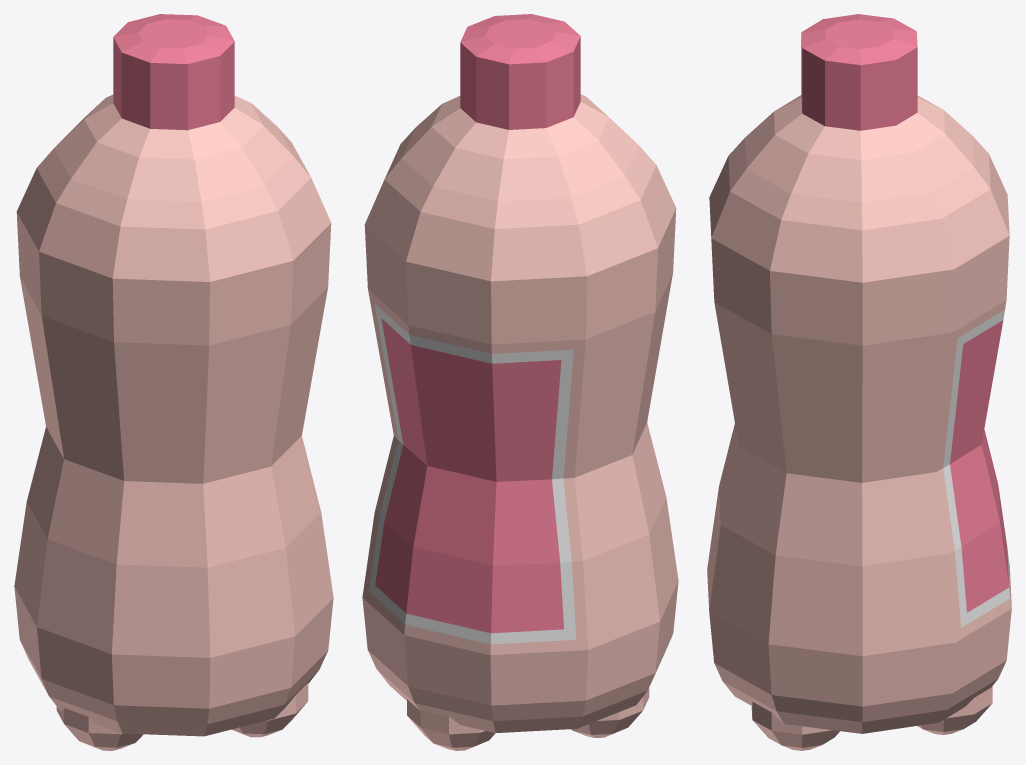
The model's file is Potion.Growth.fbx.
The picture shows the model from 3 angles, left to right: view 1: azimuth 30°, elevation 25°; view 2: azimuth 150°, elevation 25°; view 3: azimuth 270°, elevation 25°; orthographic projection.
Visible parts, largest first — view 1: Potion.Growth; view 2: Potion.Growth; view 3: Potion.Growth.
Part boxes in pixels (x1=…): Potion.Growth: x1=14, y1=14, x2=333, y2=750; Potion.Growth: x1=362, y1=14, x2=678, y2=750; Potion.Growth: x1=707, y1=14, x2=1011, y2=750.
Bounding box in the file's own units: 34.3 × 81.4 × 32.84.
